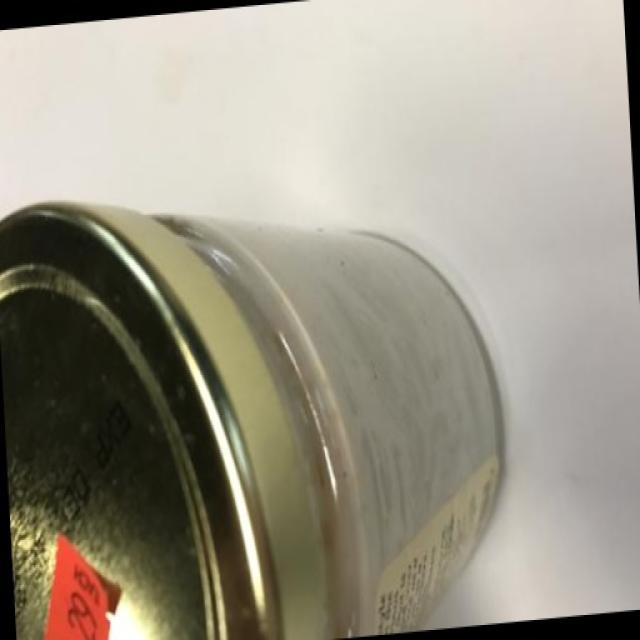vidrio: (3, 170, 623, 640)
